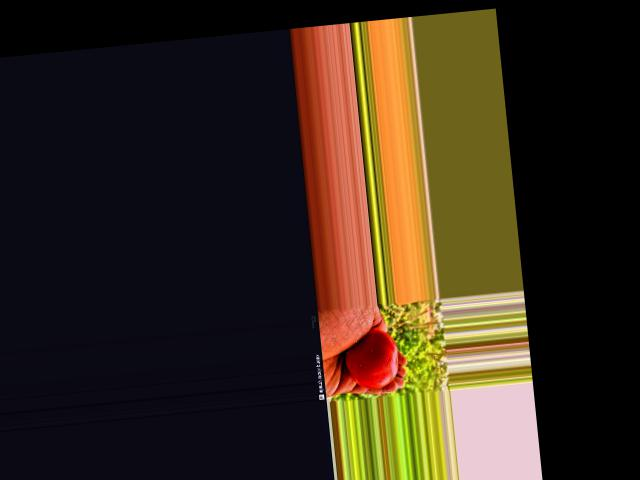tomato: (343, 327, 400, 390)
